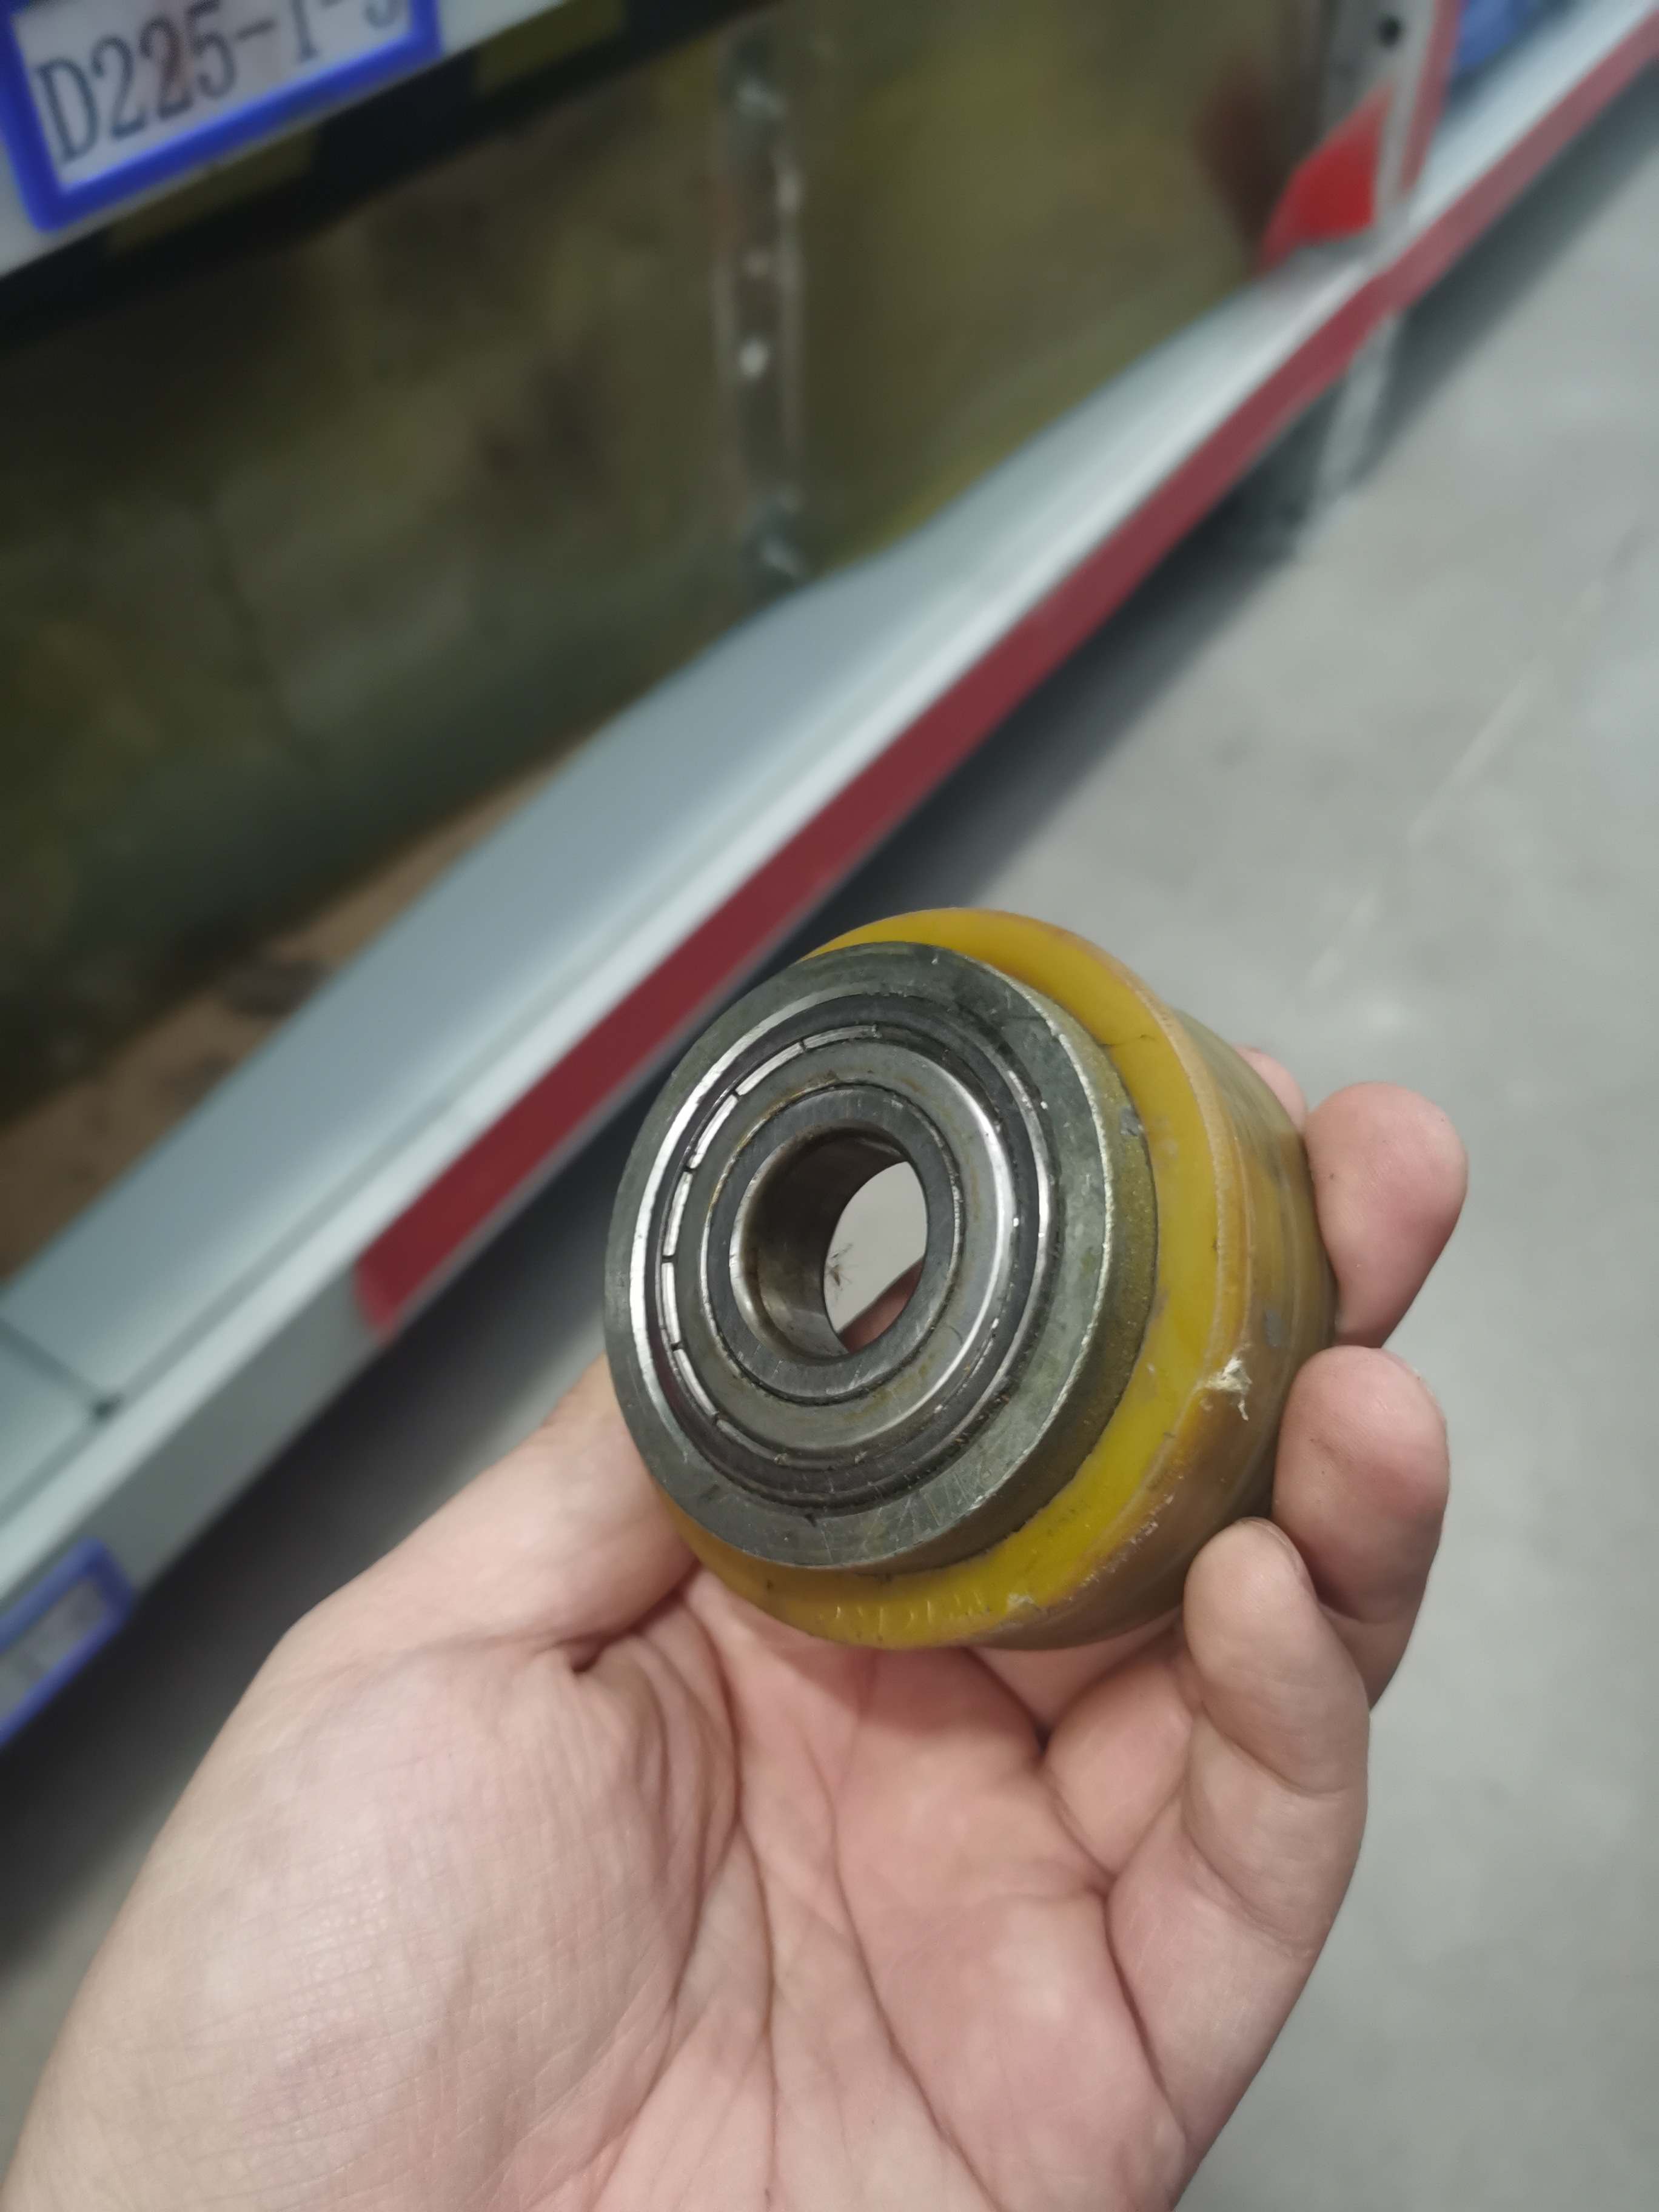bad_wheel: (791, 871, 1302, 1453)
